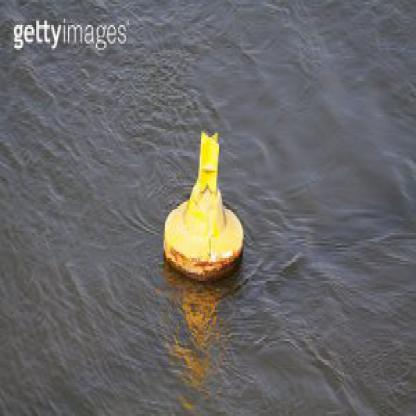buoy: (155, 121, 252, 295)
